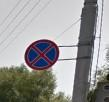No Parking: (25, 40, 61, 72)
